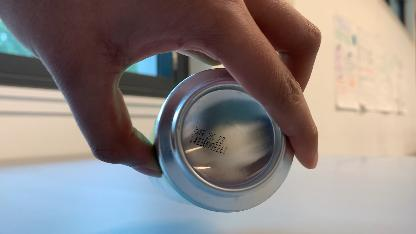Can: (150, 70, 306, 218)
